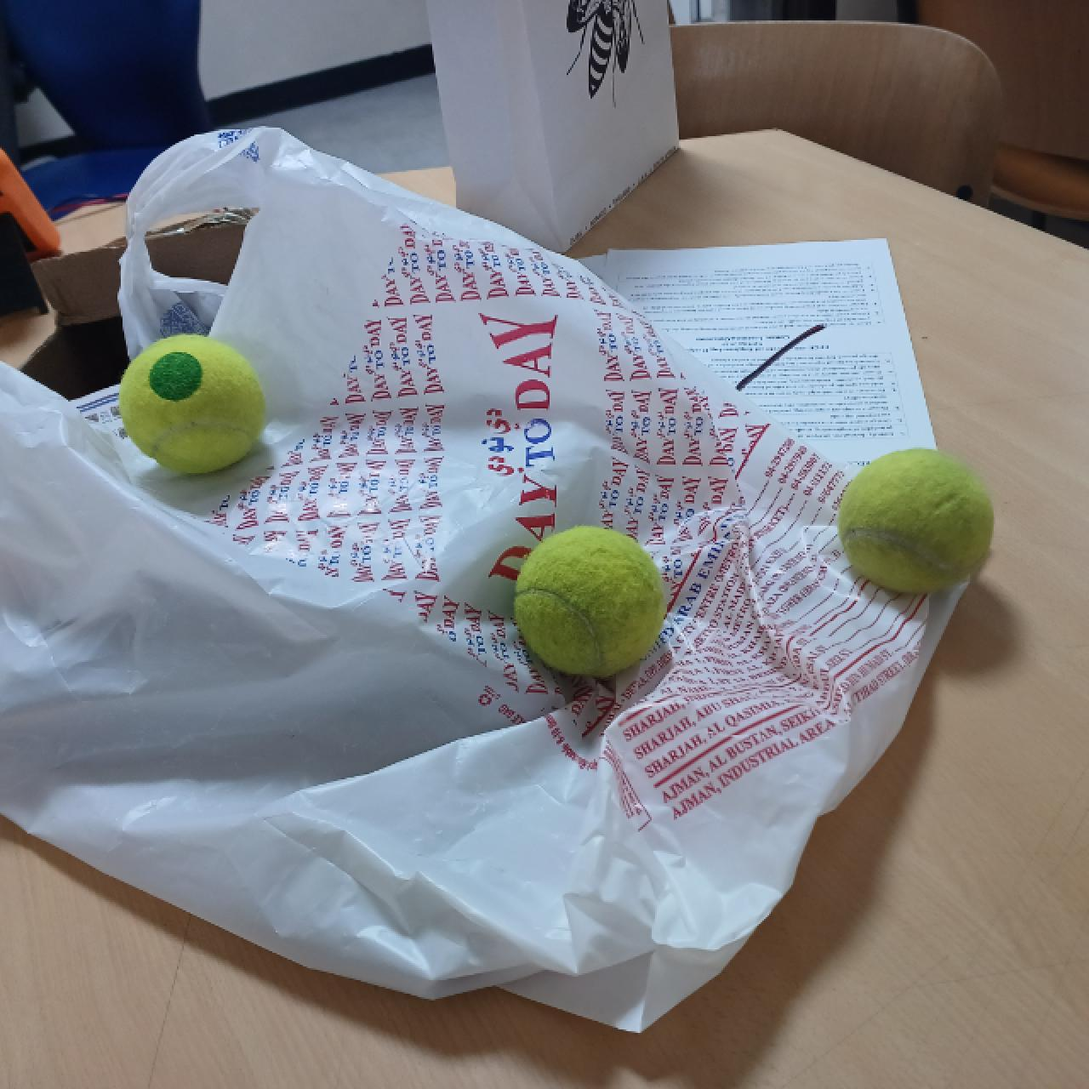tennis-ball: (513, 524, 666, 678), (836, 445, 994, 594), (119, 334, 266, 477)
